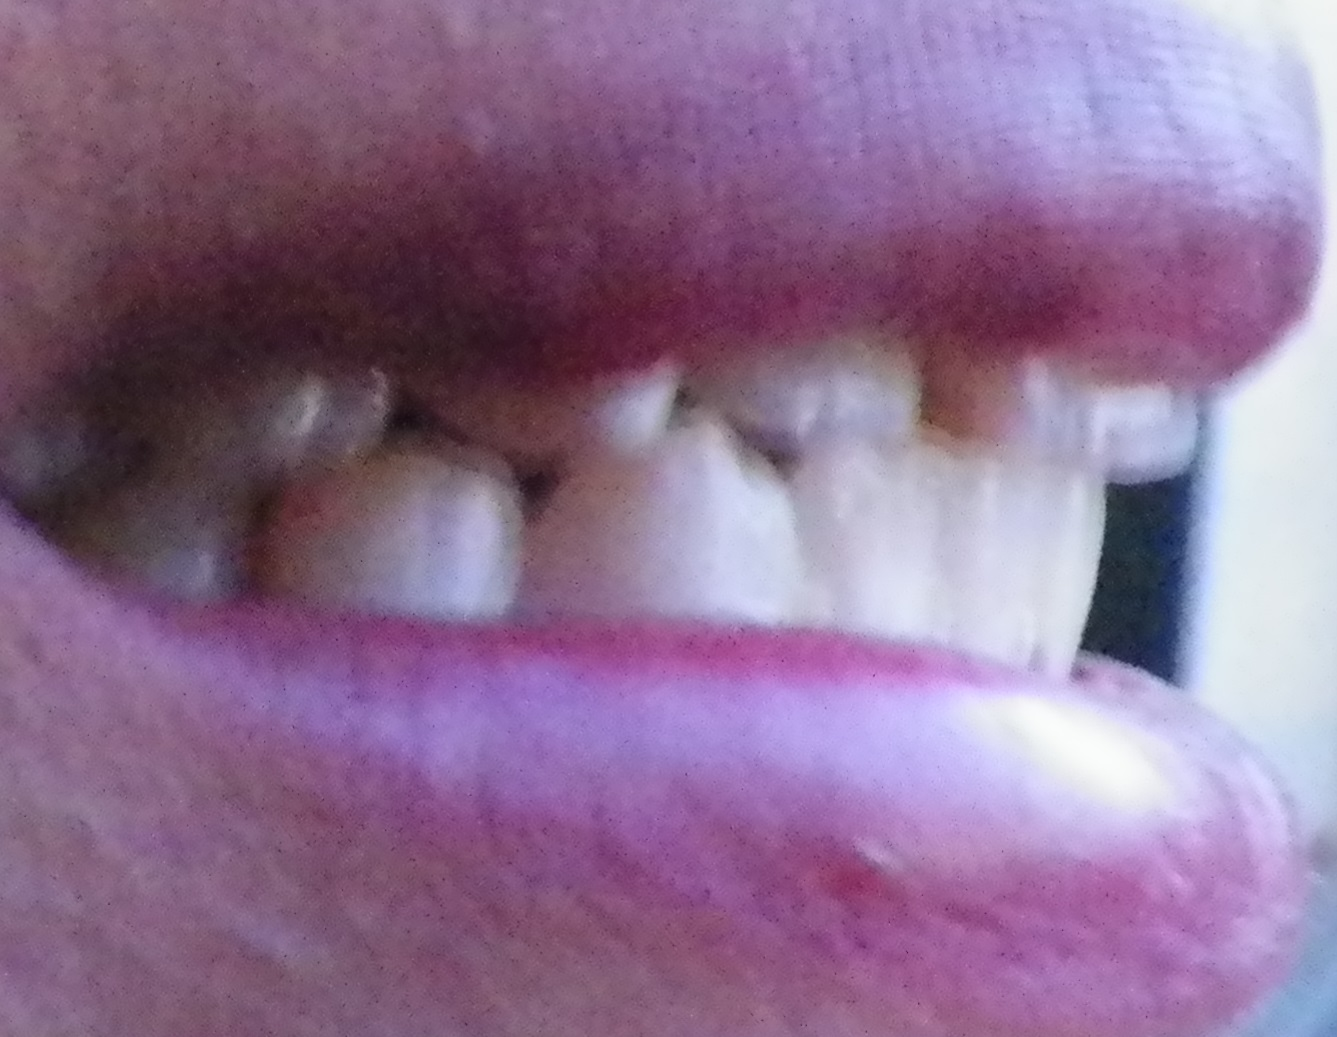boca: (97, 331, 1201, 668)
